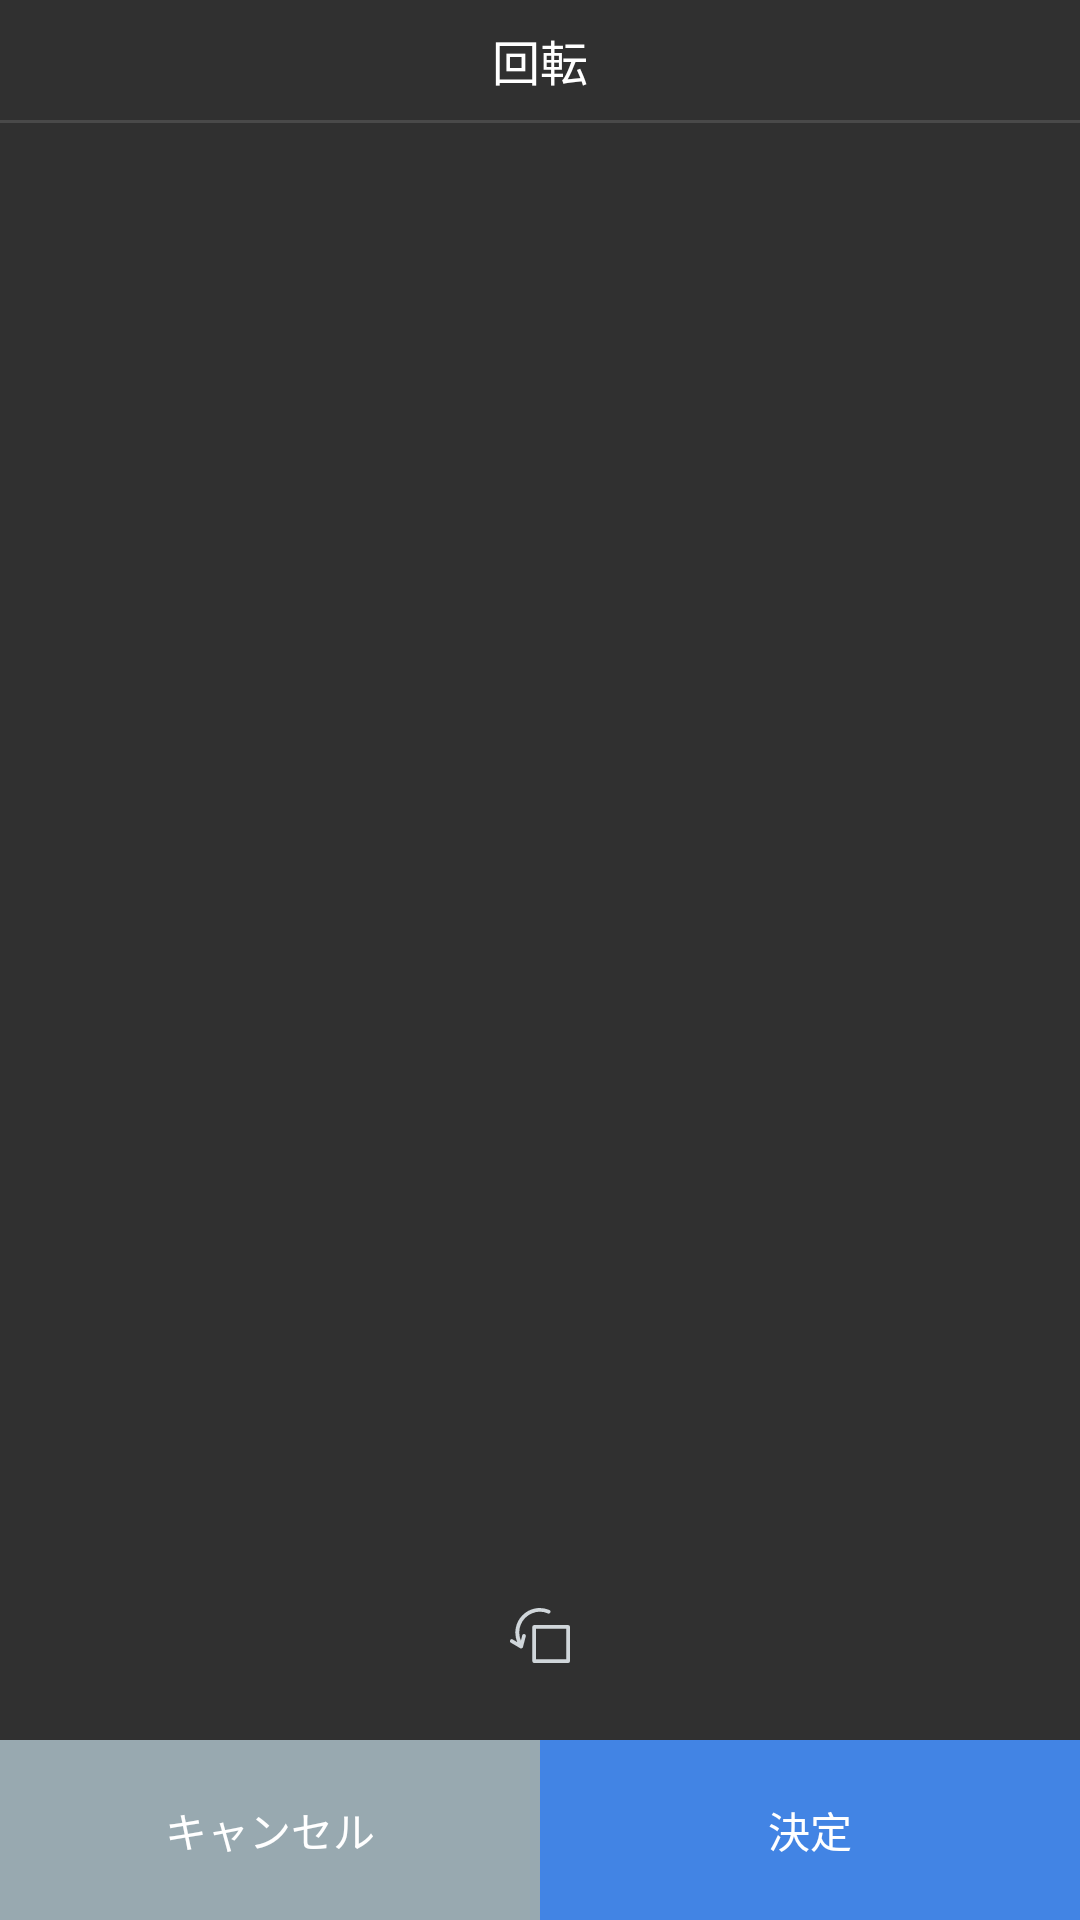

Named icons in this screenshot (1080px×1920px) and their bounding boxes, detection(x1, y1, x2, y2):
rotate: detection(510, 1608, 570, 1663)
